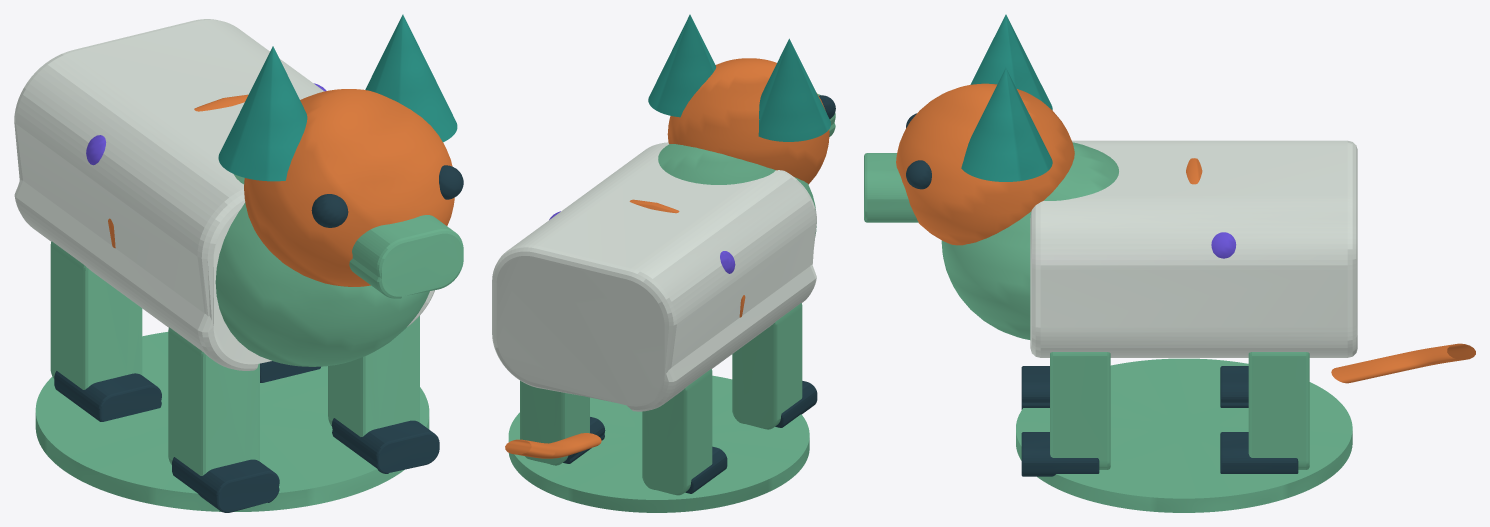
File: 0894_森林动物图鉴_欧亚松鼠.glb
3 views of the same model, side by side, from view 1: azimuth 30°, elevation 25°; view 2: azimuth 150°, elevation 25°; view 3: azimuth 270°, elevation 25° (orthographic). The views are drawn at different scales.
Parts seen in each view (by area): view 1: card_0894; view 2: card_0894; view 3: card_0894.
Boxes of the visible parts, left/top/right/bottom form: card_0894: left=14, top=14, right=463, bottom=512; card_0894: left=492, top=14, right=835, bottom=512; card_0894: left=864, top=14, right=1475, bottom=512.
Size of the model in its own units: 0.7474 by 1 by 1.38.
